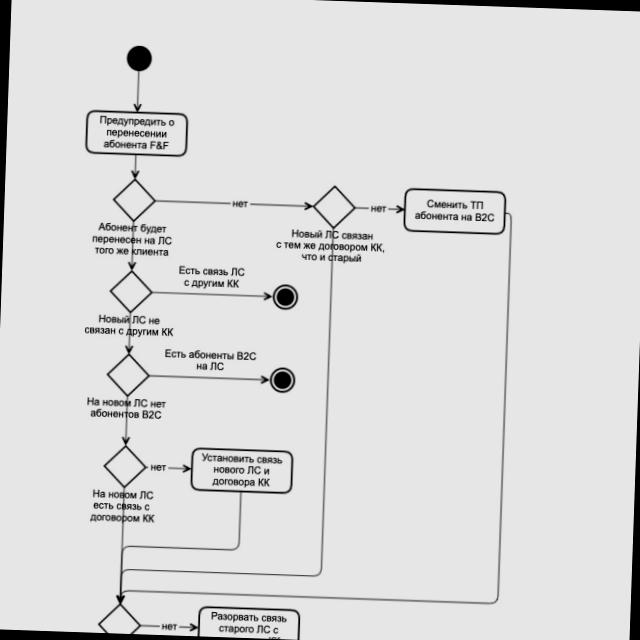arrow: (117, 488, 245, 605), (156, 191, 313, 213), (112, 488, 134, 607), (148, 283, 273, 303), (149, 370, 270, 389), (144, 455, 193, 477), (140, 617, 198, 634), (351, 198, 404, 216), (122, 219, 140, 270), (117, 392, 133, 448), (122, 309, 136, 356), (130, 70, 144, 111), (128, 154, 144, 178)
circle: (127, 46, 151, 71), (270, 368, 295, 392), (273, 285, 297, 308)
diamond: (114, 179, 155, 221), (104, 446, 145, 487), (314, 186, 354, 228), (111, 271, 151, 312), (108, 355, 149, 395)
rectangle: (404, 189, 506, 235), (192, 448, 293, 493), (86, 111, 187, 156)
text_region: (268, 224, 389, 268), (86, 222, 178, 260), (81, 486, 162, 528), (160, 344, 262, 374), (84, 312, 180, 338), (84, 394, 170, 422), (174, 262, 250, 291), (230, 194, 249, 214), (157, 617, 178, 635), (146, 459, 170, 474), (368, 202, 390, 216)
